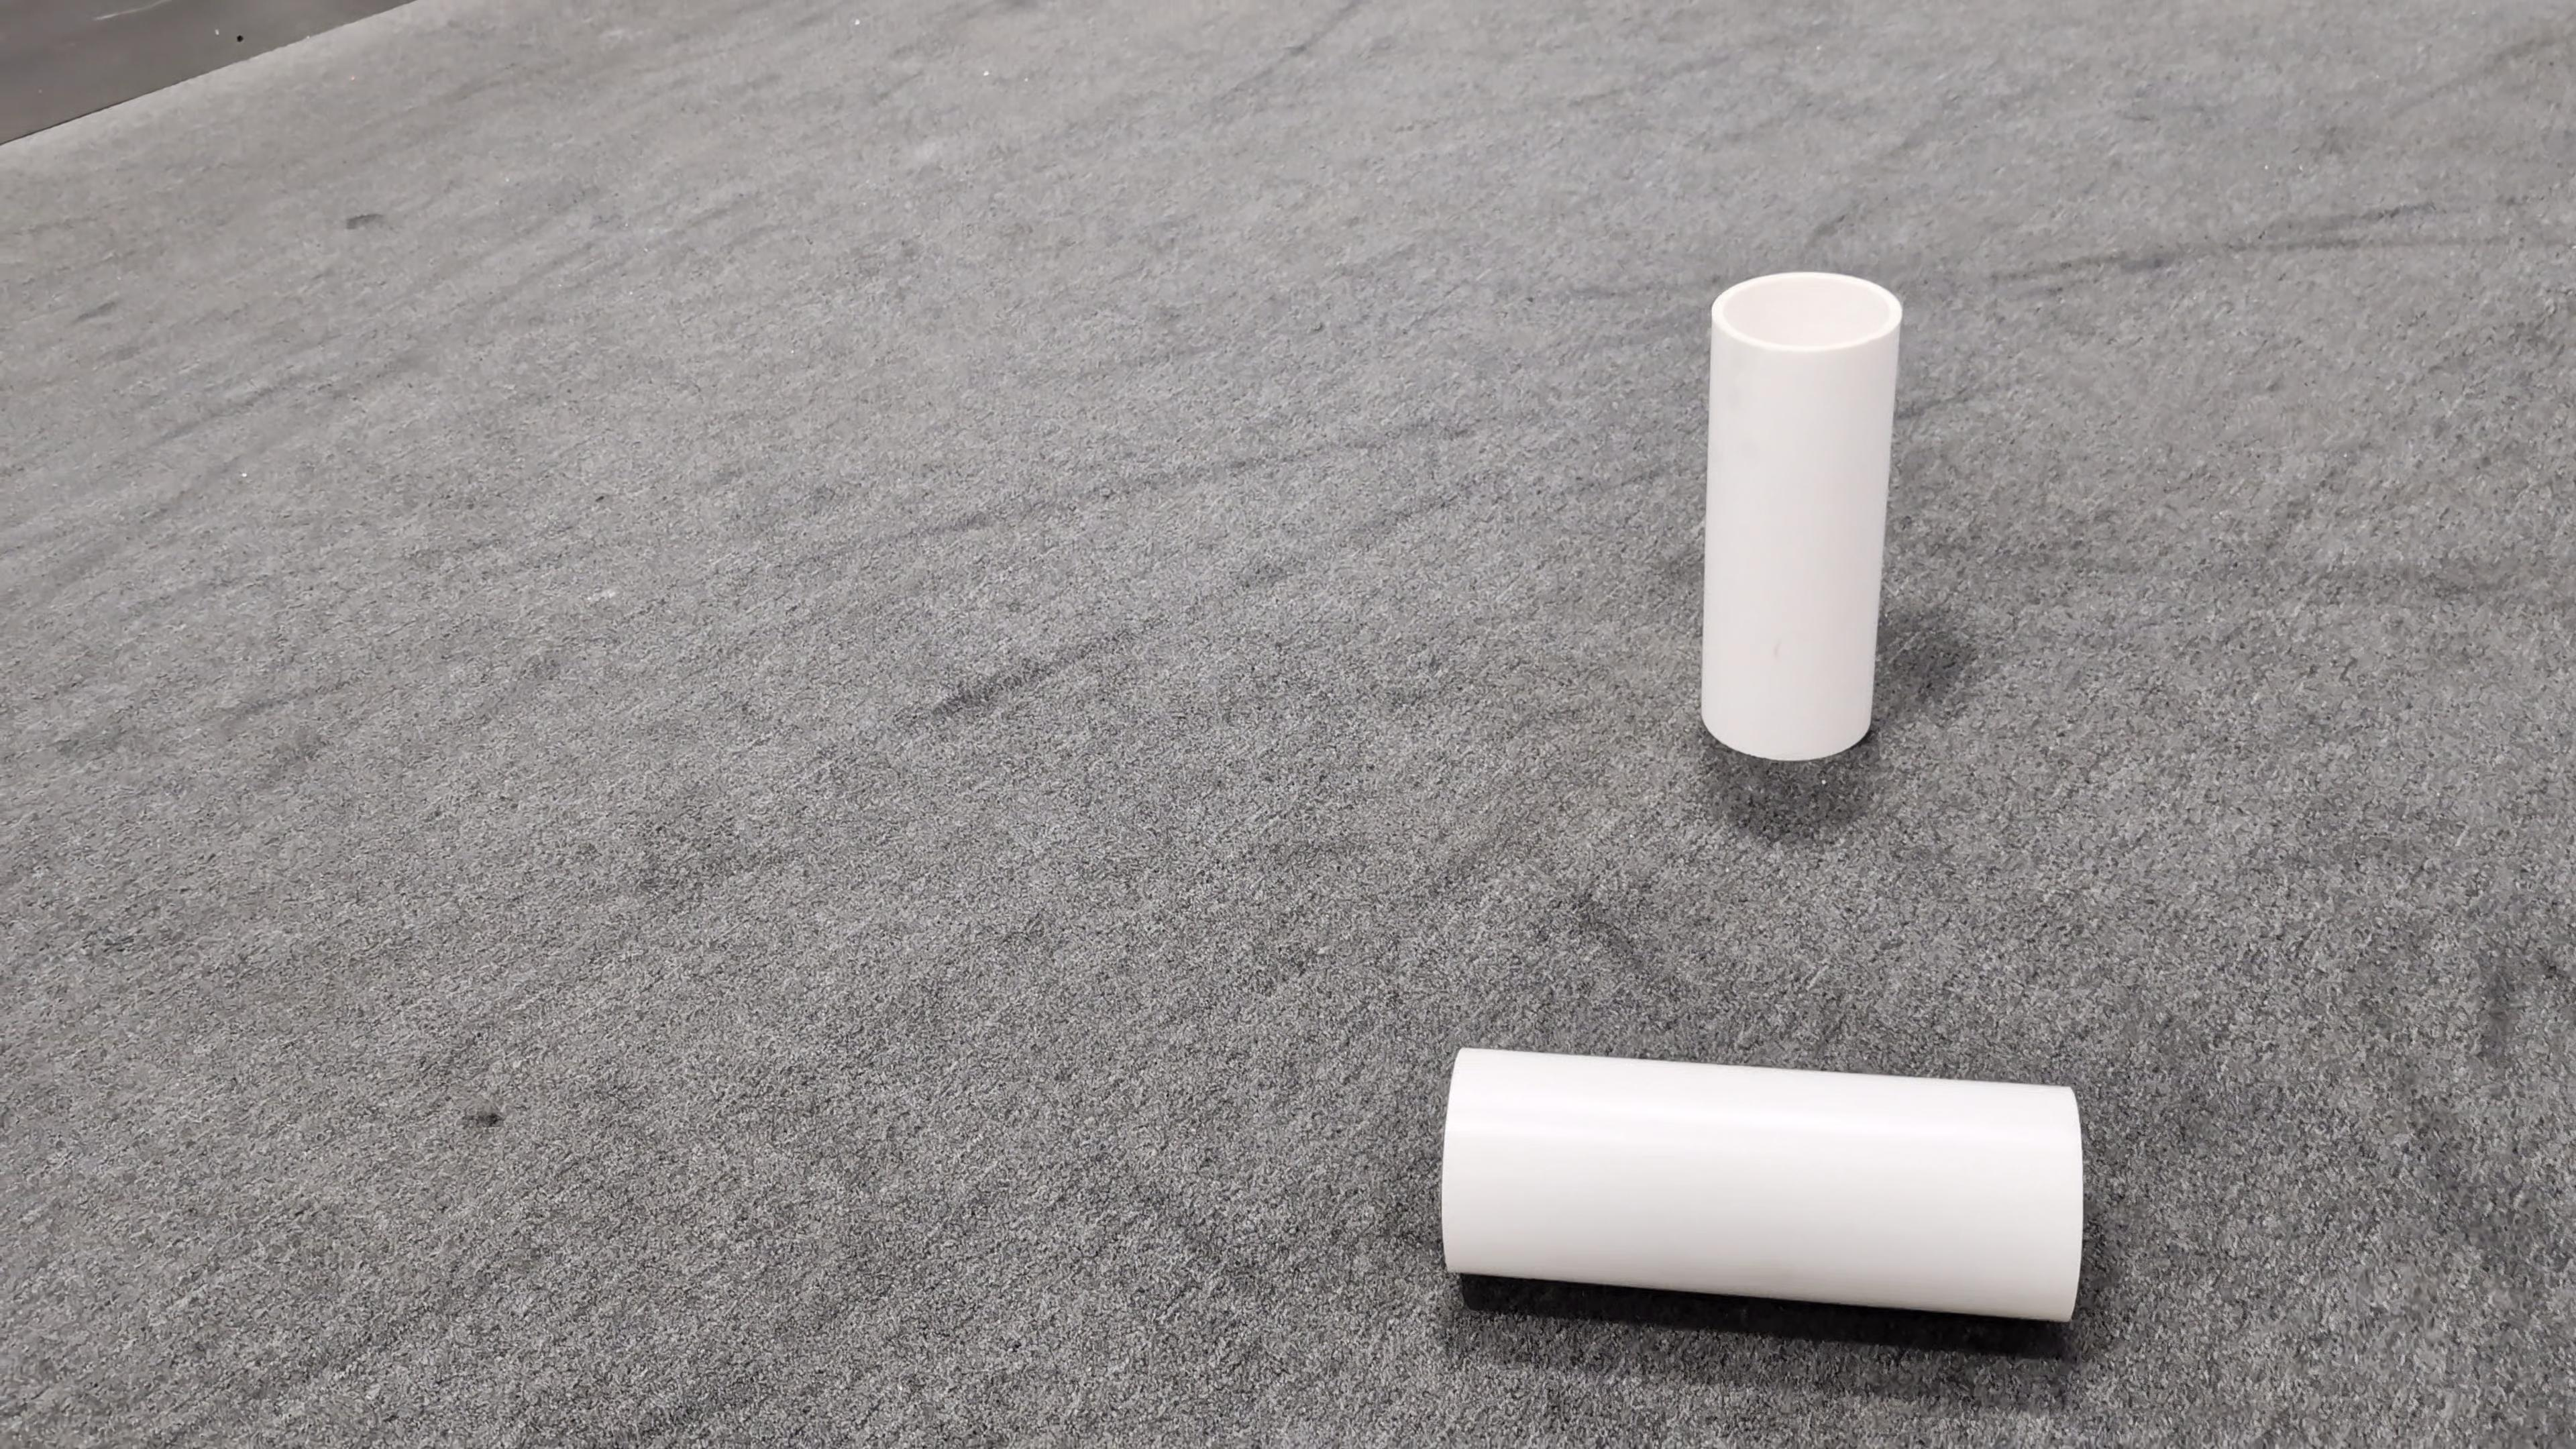coral: (1438, 1042, 2089, 1329), (1695, 271, 1907, 761)
